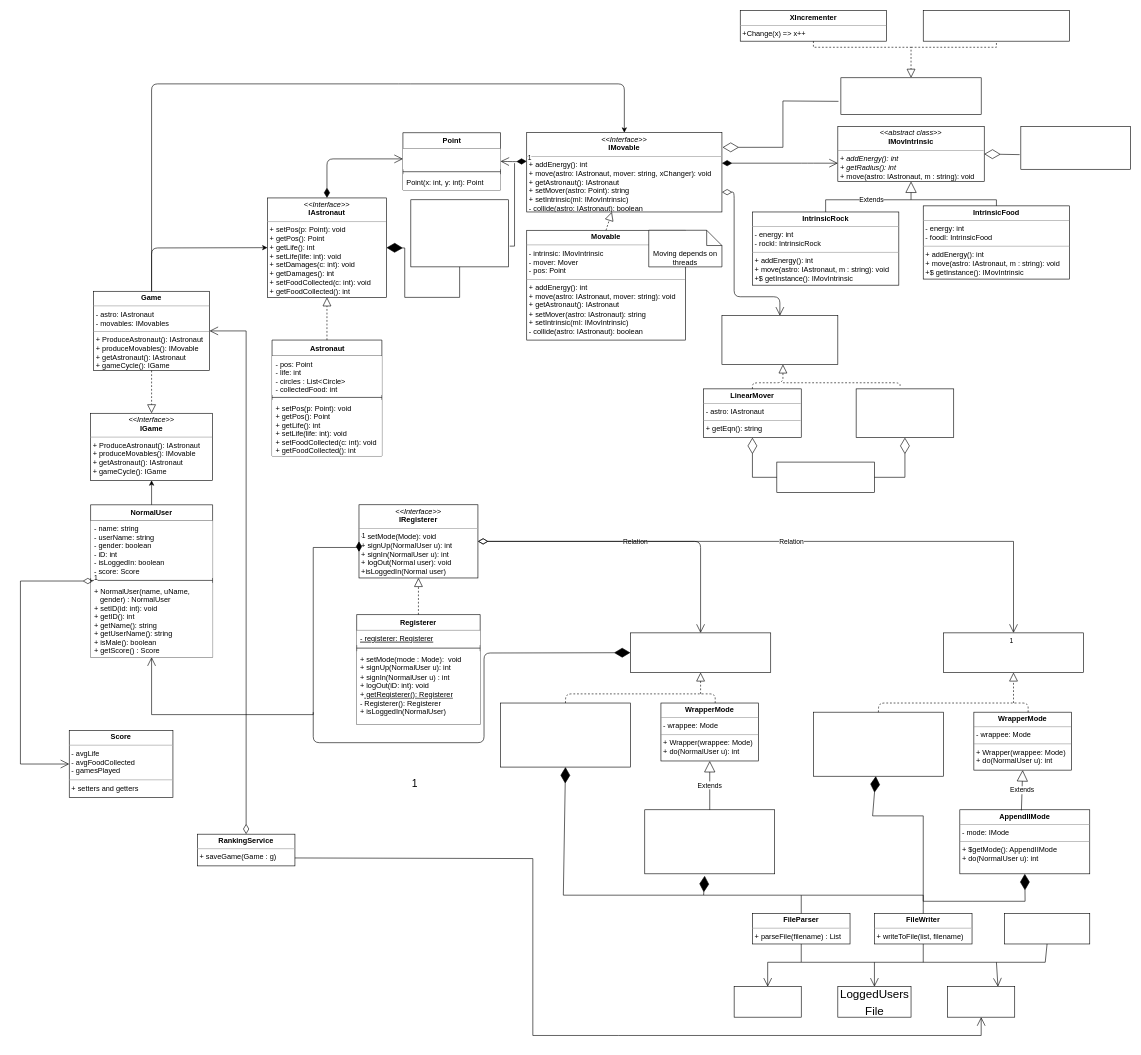
Image size: 1141x1055. Some labels were removed from this diagram. The centre of each missing label's shape, as x and y in pixels:
"- x: int - y: int" belongs at (451,158).
"<< Intreface >> ICheckerMode + do(NormalUser u): int" belongs at (700,652).
"<< Intreface >> IMode + do(NormalUser u): int" belongs at (1013,652).
"<<Interface>> IMover + getAstronaut(): IAstronaut + getEqn(): string" belongs at (779,339).
"<<Interface>> XChanger + change(int x) : int" belongs at (910,95).
"All usersFile" belongs at (767,1001).
"AppendMode - mode: AppendMode + $getMode(): AppendMode + do(NormalUser u): int" belongs at (878,744).
"Circle - x: int - y: int - radius: int + setters and getters" belongs at (459,233).
"Evaluator + evalEqn() +getDistance(Point p1, point p2)" belongs at (1075,147).
"FileInitializer + createFiles" belongs at (1047,928).
"NewtonInterpolationService + $getEqn" belongs at (825,477).
"QuadraticMover - astro: IAstronaut + getEqn(): string" belongs at (905,413).
"RankedUsers" belongs at (981,1001).
"SignInMode - mode: ICheckerMode + $getMode(): SignInMode + do(NormalUser u): int" belongs at (709,841).
"SignUpMode - mode: AppendMode + $getMode(): SignUpMode + do(NormalUser u): int" belongs at (565,734).
"XDecrementer + change(x) => x- -" belongs at (996,25).
